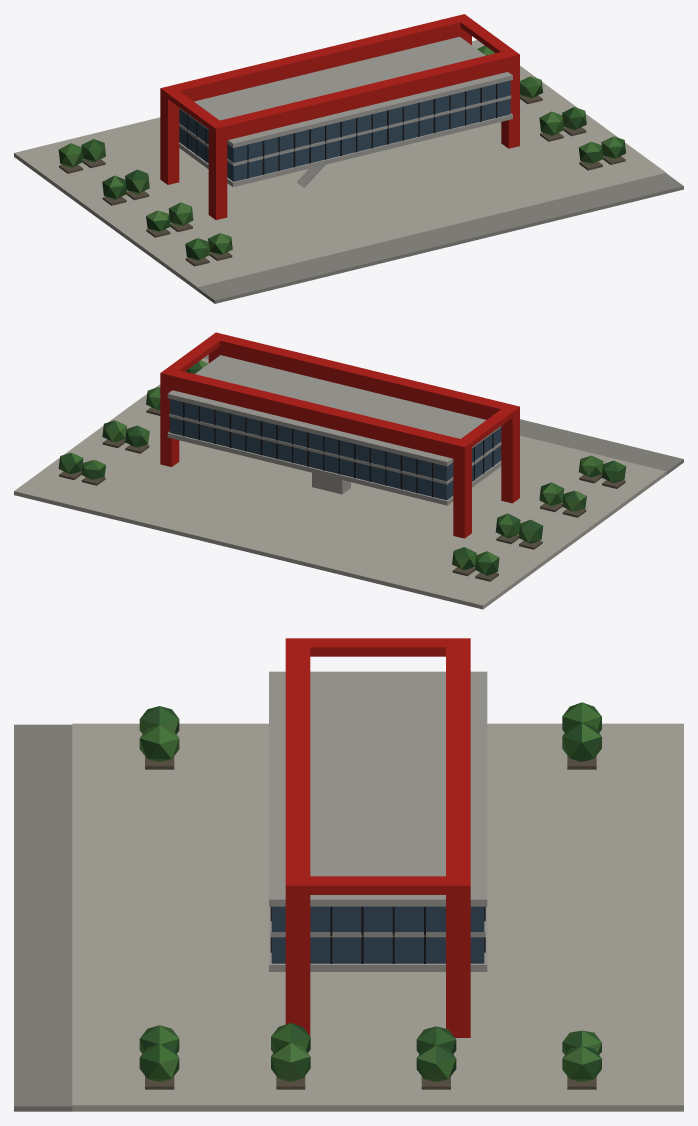
File: masp.glb
The picture shows the model from 3 angles, top to bottom: view 1: azimuth 30°, elevation 25°; view 2: azimuth 150°, elevation 25°; view 3: azimuth 270°, elevation 25°; orthographic projection. The views are drawn at different scales.
Visible parts, largest first — view 1: masp; view 2: masp; view 3: masp.
Part boxes in pixels (left/top/right/bottom): masp: left=14, top=14, right=683, bottom=303; masp: left=14, top=332, right=683, bottom=609; masp: left=14, top=638, right=683, bottom=1111.
Bounding box in the file's own units: 124 × 24.1 × 92.
